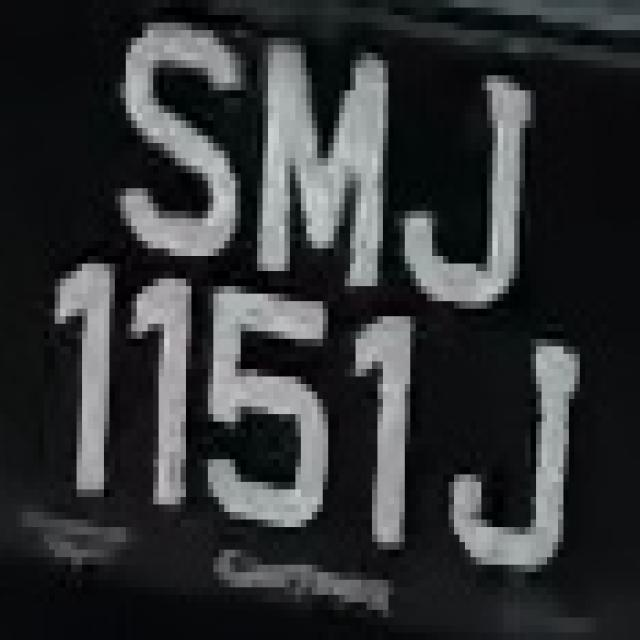1: (131, 241, 208, 527), (345, 301, 421, 557), (49, 248, 115, 504)
5: (202, 264, 323, 534)
J: (448, 332, 590, 602), (416, 30, 536, 316)
M: (235, 15, 241, 279)
S: (116, 5, 246, 265)
